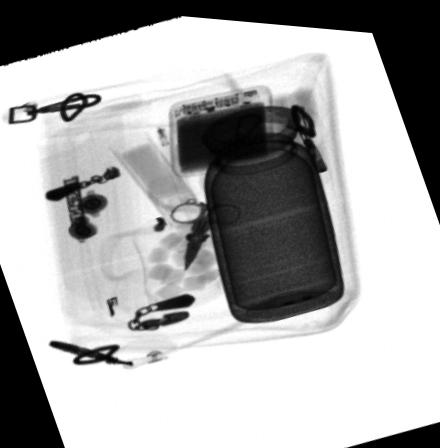Powerbank: (168, 81, 275, 176)
Scissors: (168, 197, 244, 268)
